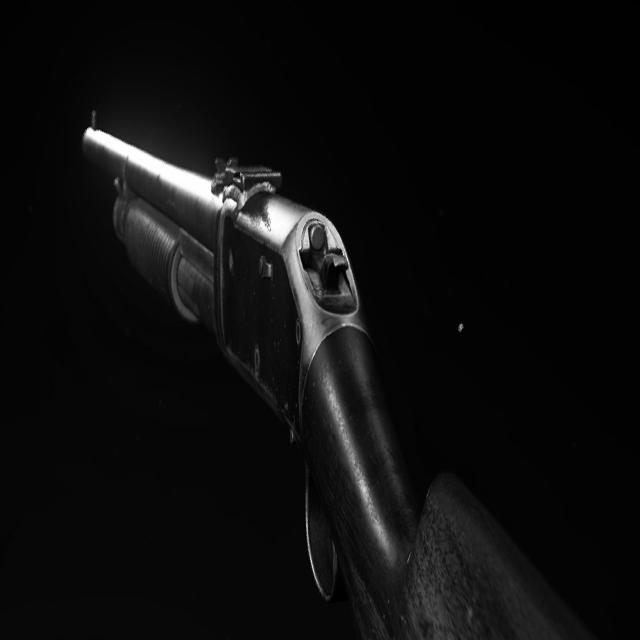Short-Gun: (81, 103, 433, 640)
